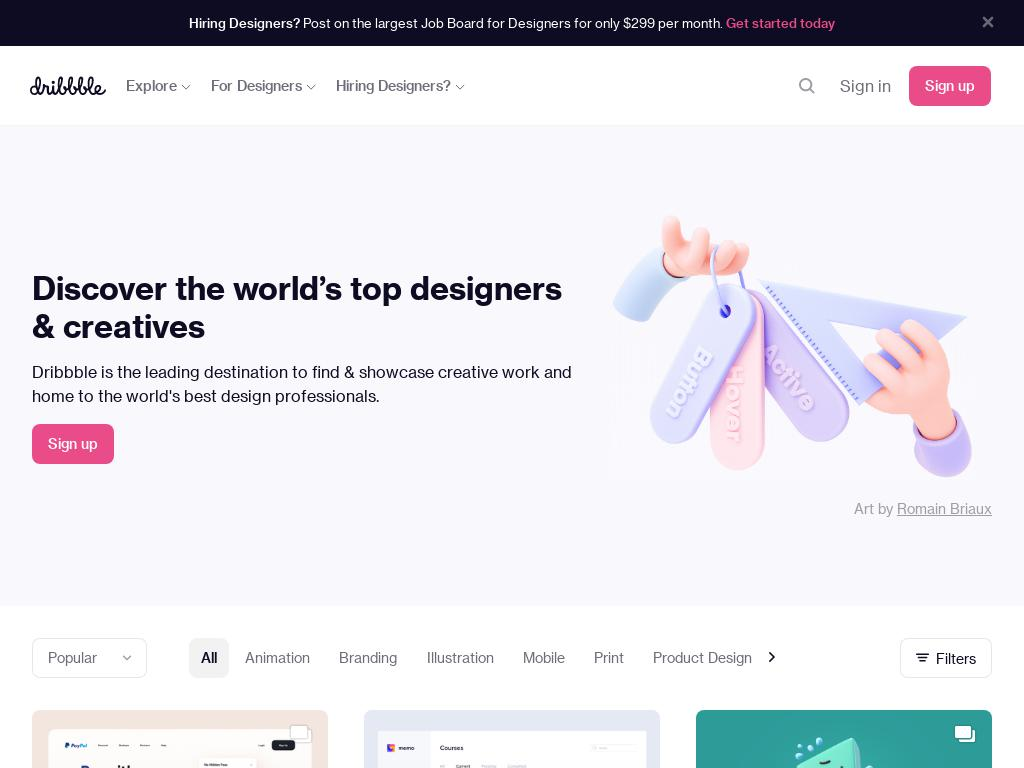button: (32, 710, 328, 768), (364, 710, 660, 768), (696, 710, 992, 768), (30, 46, 106, 126), (640, 638, 765, 678), (32, 638, 147, 678), (769, 638, 873, 678), (877, 638, 979, 678), (414, 638, 506, 678), (900, 638, 992, 678), (233, 638, 322, 678), (326, 638, 410, 678), (909, 66, 991, 106), (32, 424, 114, 464), (336, 74, 465, 98), (510, 638, 577, 678), (211, 74, 316, 98), (581, 638, 636, 678), (752, 638, 792, 678), (189, 638, 229, 678), (126, 74, 191, 98), (840, 74, 891, 98), (972, 6, 1004, 39)
heading: (32, 268, 592, 344)
image: (592, 213, 992, 479), (32, 710, 328, 768), (364, 710, 660, 768), (696, 710, 992, 768), (30, 46, 106, 126), (289, 722, 313, 746), (953, 722, 977, 746), (980, 14, 996, 30), (799, 78, 815, 94), (916, 651, 929, 665), (766, 651, 778, 663), (122, 653, 132, 663), (181, 84, 191, 91), (306, 84, 316, 91), (455, 84, 465, 91)
link: (726, 15, 835, 30), (897, 500, 992, 517)
text: (32, 360, 592, 408), (300, 15, 726, 30), (909, 66, 991, 106), (336, 77, 455, 94), (189, 15, 300, 30), (211, 77, 306, 94), (840, 76, 891, 95), (126, 77, 181, 94), (48, 649, 97, 666), (935, 650, 976, 669), (854, 500, 897, 517)
